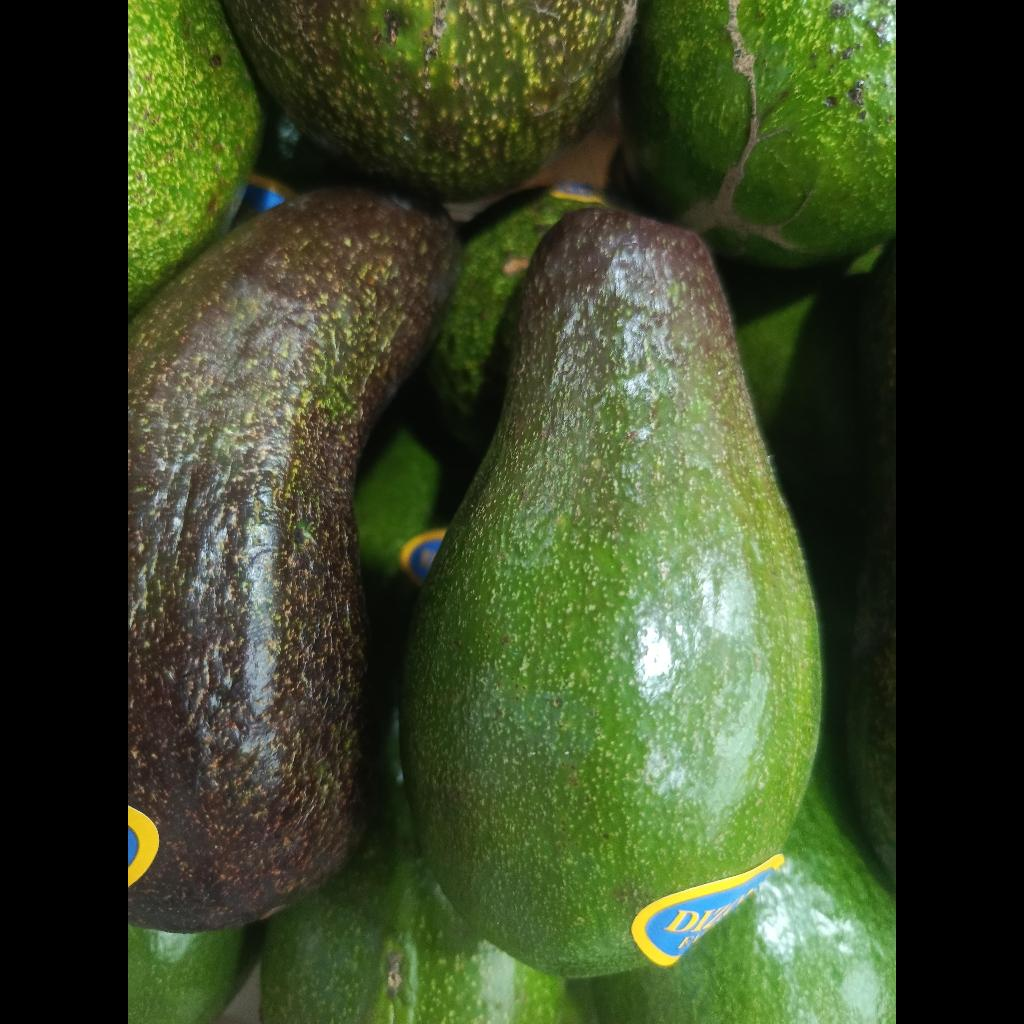antracnosis_fruto: (223, 0, 636, 201)
rona: (622, 0, 896, 267)
